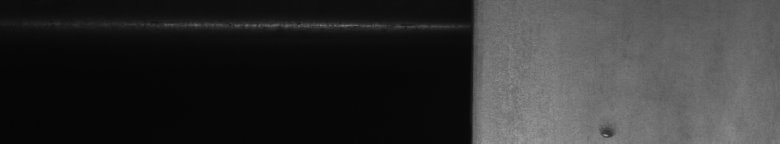fi: (593, 124, 621, 136)
